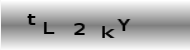2: (73, 21, 86, 37)
L: (42, 20, 54, 35)
Y: (117, 17, 132, 32)
k: (101, 24, 115, 40)
t: (26, 12, 39, 27)
